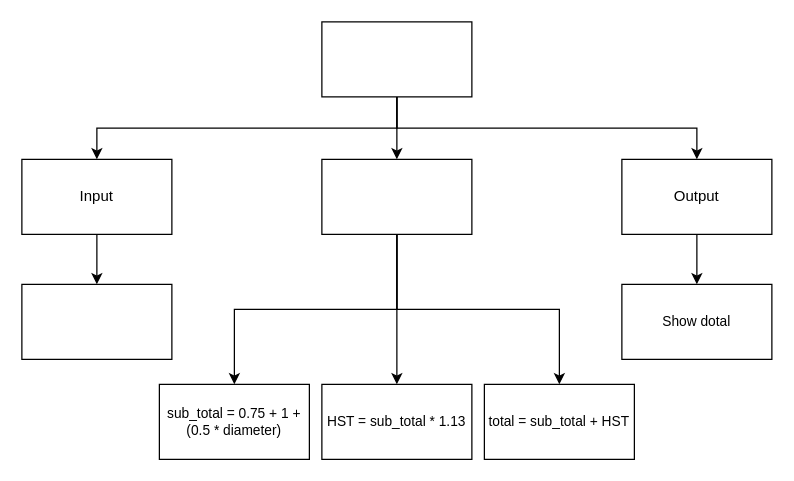
Image size: 794x481. Some labels were removed from this diagram. Here are the shapes that lost their labels. From the top down, the centre of each, then its label:
At point 396,59: "Pizza Cost".
At point 396,196: "Process".
At point 96,321: "Get diameter".
